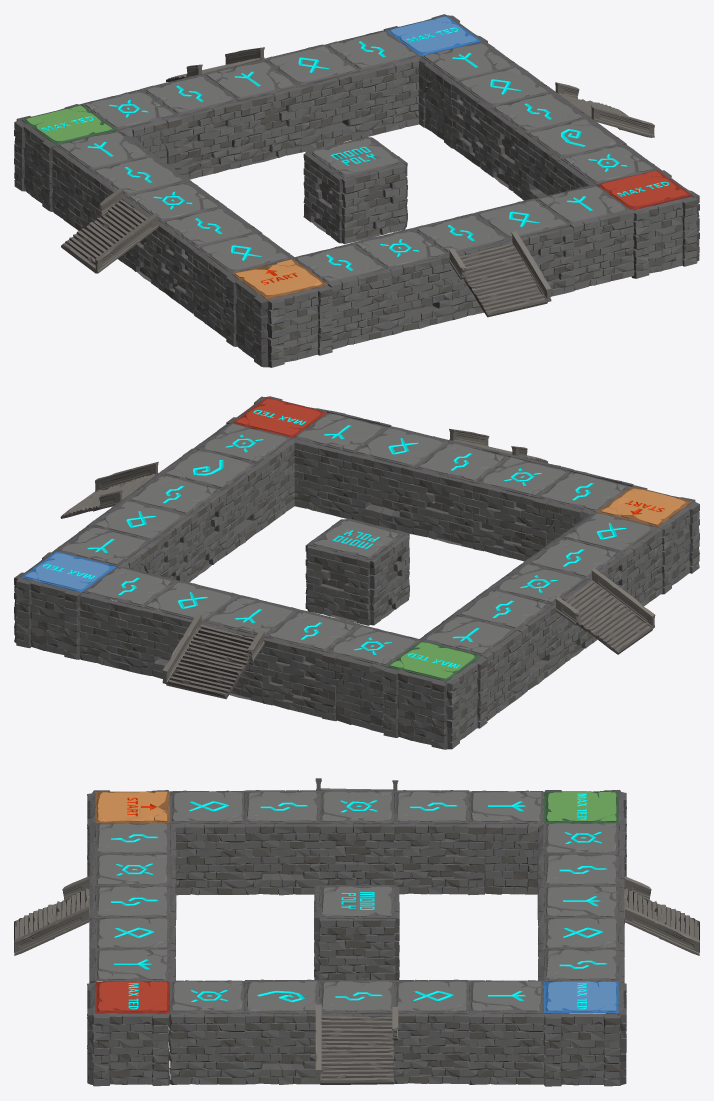
The model's file is SM_Env_Tiles_Rune.obj.
3 views of the same model, one above another, from view 1: azimuth 30°, elevation 25°; view 2: azimuth 150°, elevation 25°; view 3: azimuth 270°, elevation 25° (orthographic). The views are drawn at different scales.
Visible parts, largest first — view 1: SM_Env_Tiles_Rune; view 2: SM_Env_Tiles_Rune; view 3: SM_Env_Tiles_Rune.
Boxes of the visible parts, x1,y1,x2,y2 form: SM_Env_Tiles_Rune: (14, 14, 699, 367); SM_Env_Tiles_Rune: (14, 396, 699, 749); SM_Env_Tiles_Rune: (14, 778, 699, 1086).
Size of the model in its own units: 10.71 by 1.43 by 10.71.
